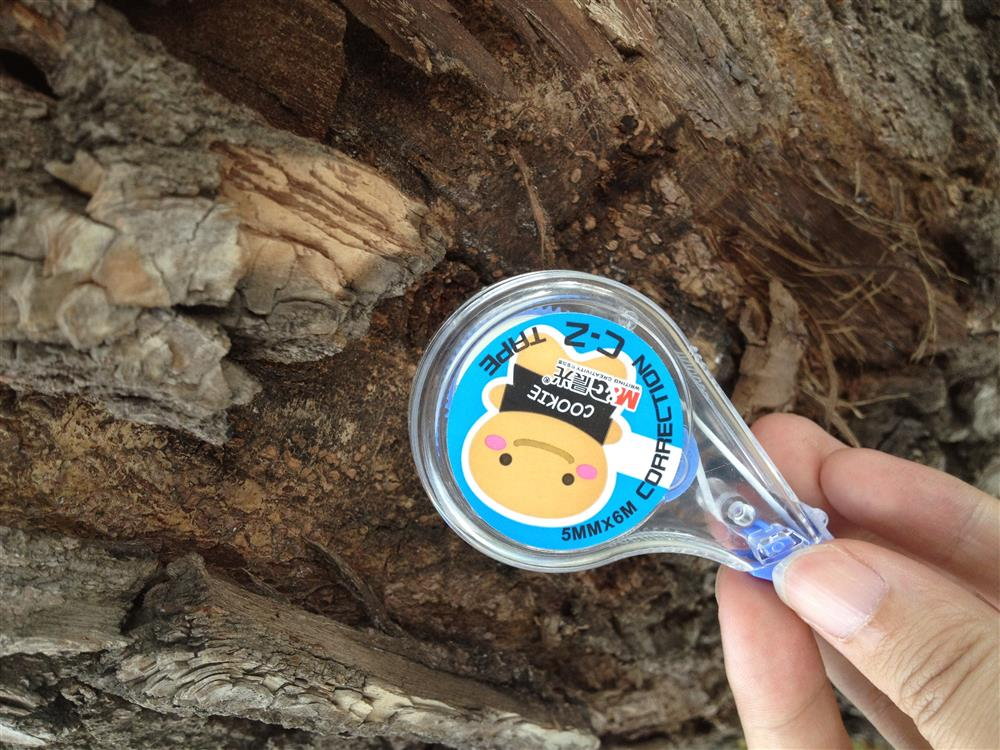correction_tape: (403, 269, 836, 573)
